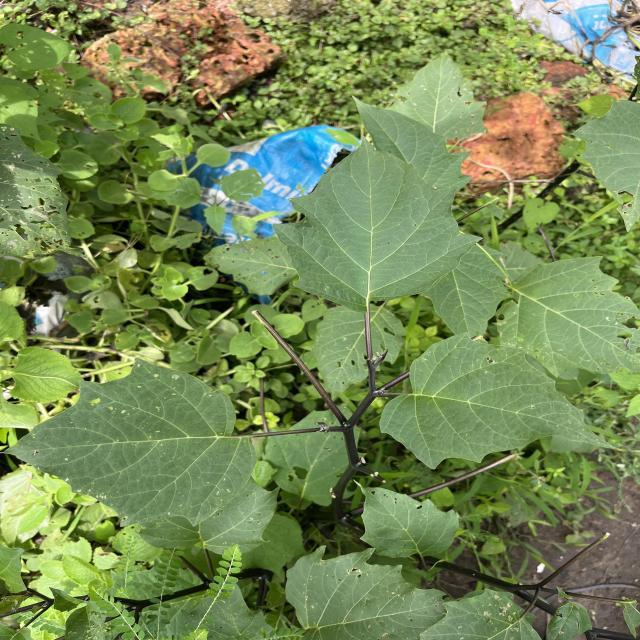Datura metal linn: (0, 355, 258, 529), (268, 133, 488, 315), (378, 329, 626, 472), (350, 476, 462, 562)
